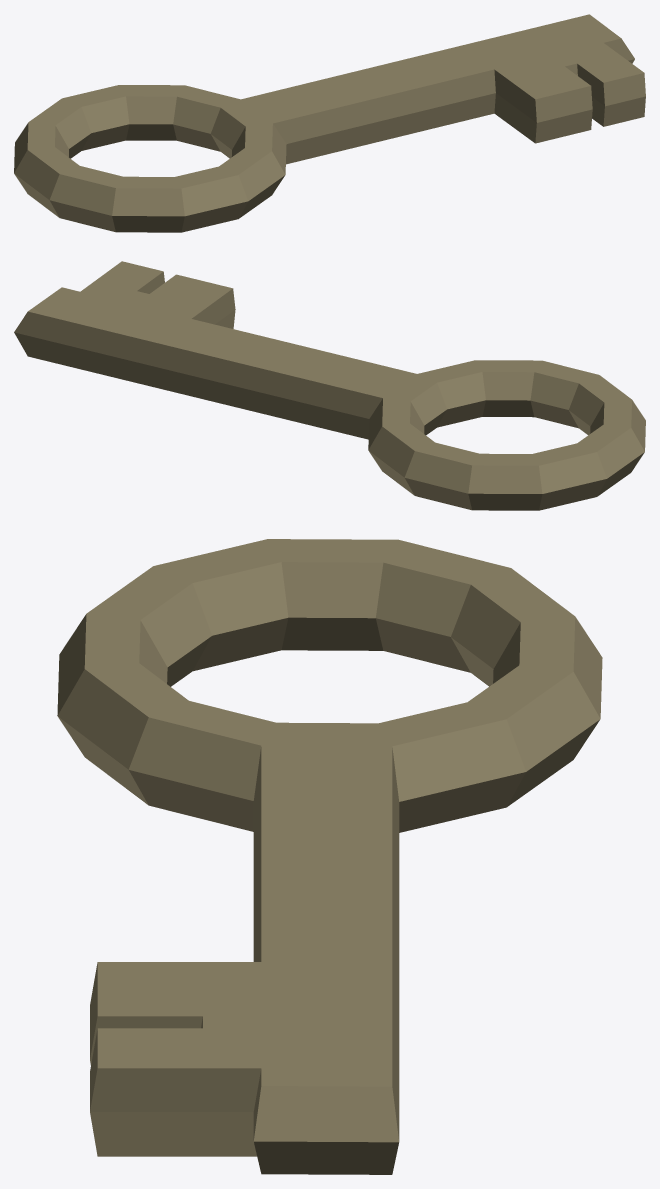
Rendered from Llavecita.fbx.
The picture shows the model from 3 angles, top to bottom: view 1: azimuth 30°, elevation 25°; view 2: azimuth 150°, elevation 25°; view 3: azimuth 270°, elevation 25°; orthographic projection. The views are drawn at different scales.
Parts seen in each view (by area): view 1: Torus; view 2: Torus; view 3: Torus.
Boxes of the visible parts, x1,y1,x2,y2 form: Torus: (14, 14, 645, 232); Torus: (14, 261, 645, 510); Torus: (57, 539, 602, 1174).
Size of the model in its own units: 15.52 by 1.12 by 6.26.
